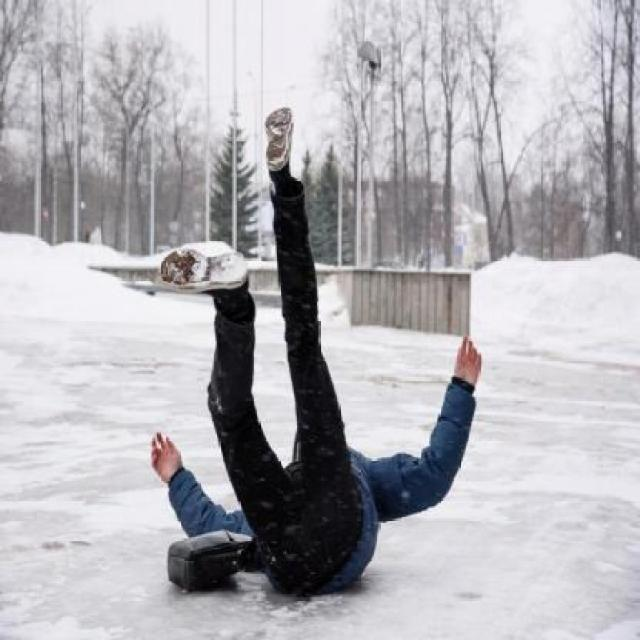fall: (151, 93, 494, 605)
